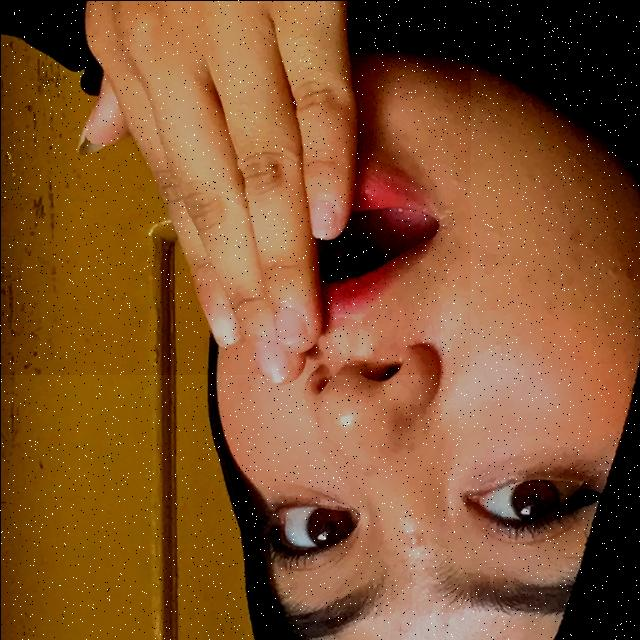ngantuk: (0, 0, 470, 374)
